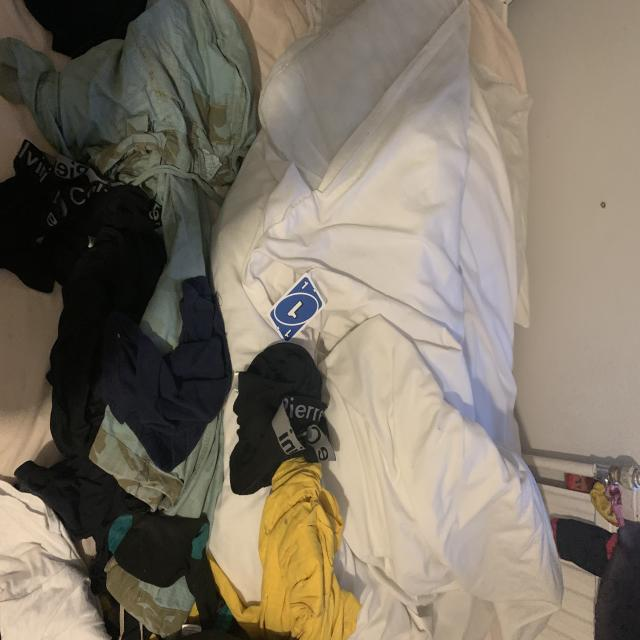lblue-1: (300, 279, 310, 290)
